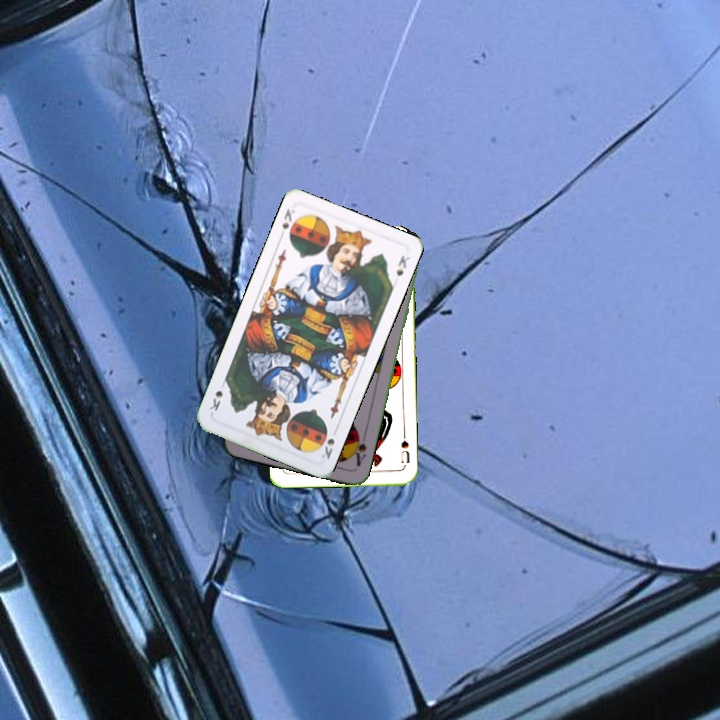SA: (348, 429, 369, 469)
SK: (275, 204, 298, 242), (317, 434, 337, 462)
SU: (397, 429, 412, 470)
